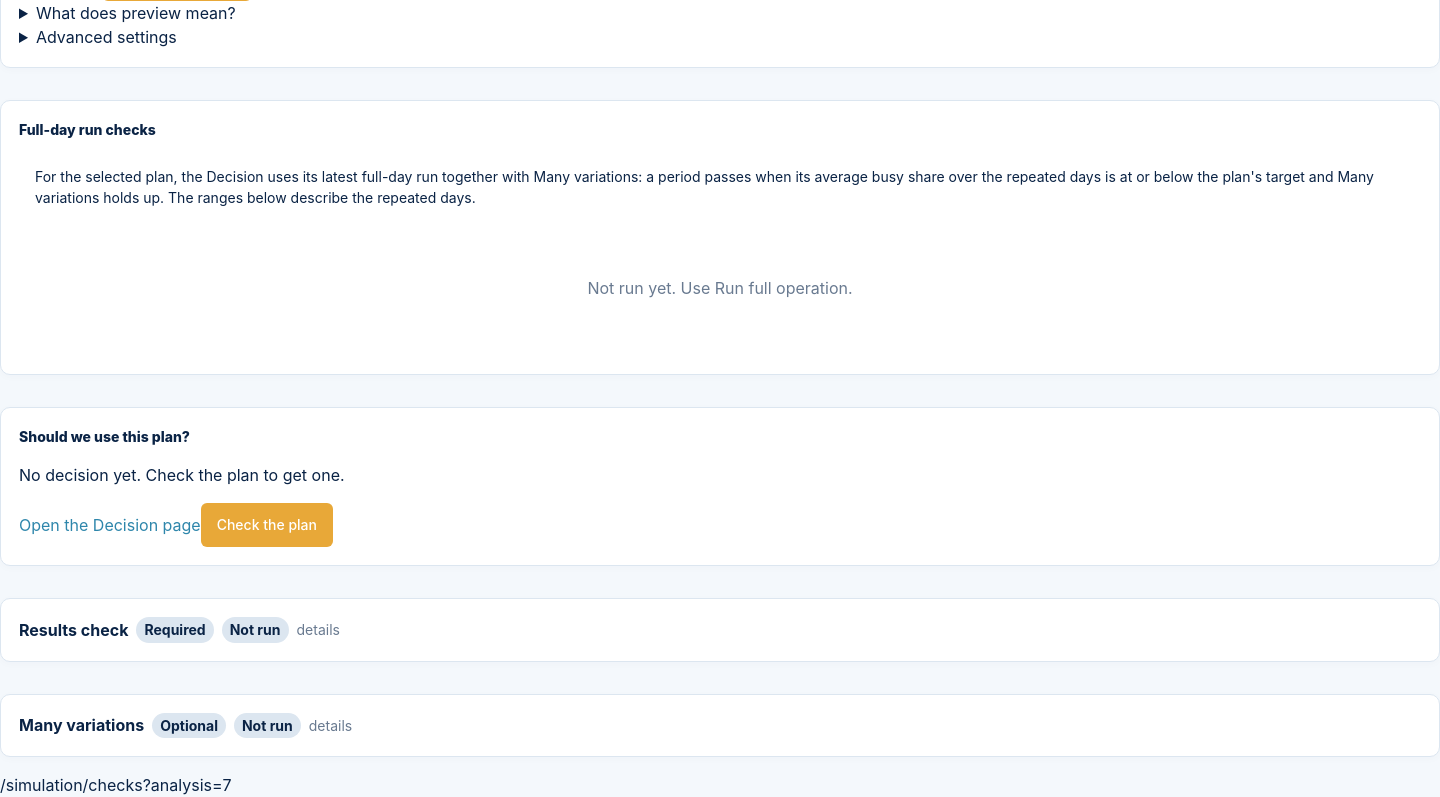
Test: shared selection/checks and legacy renderer contracts › says which evidence a shared Decision is missing, and how many periods failed
(page scrolled)
Click the button "Check the plan": [267, 525] box x1=201 y1=503 x2=333 y2=547
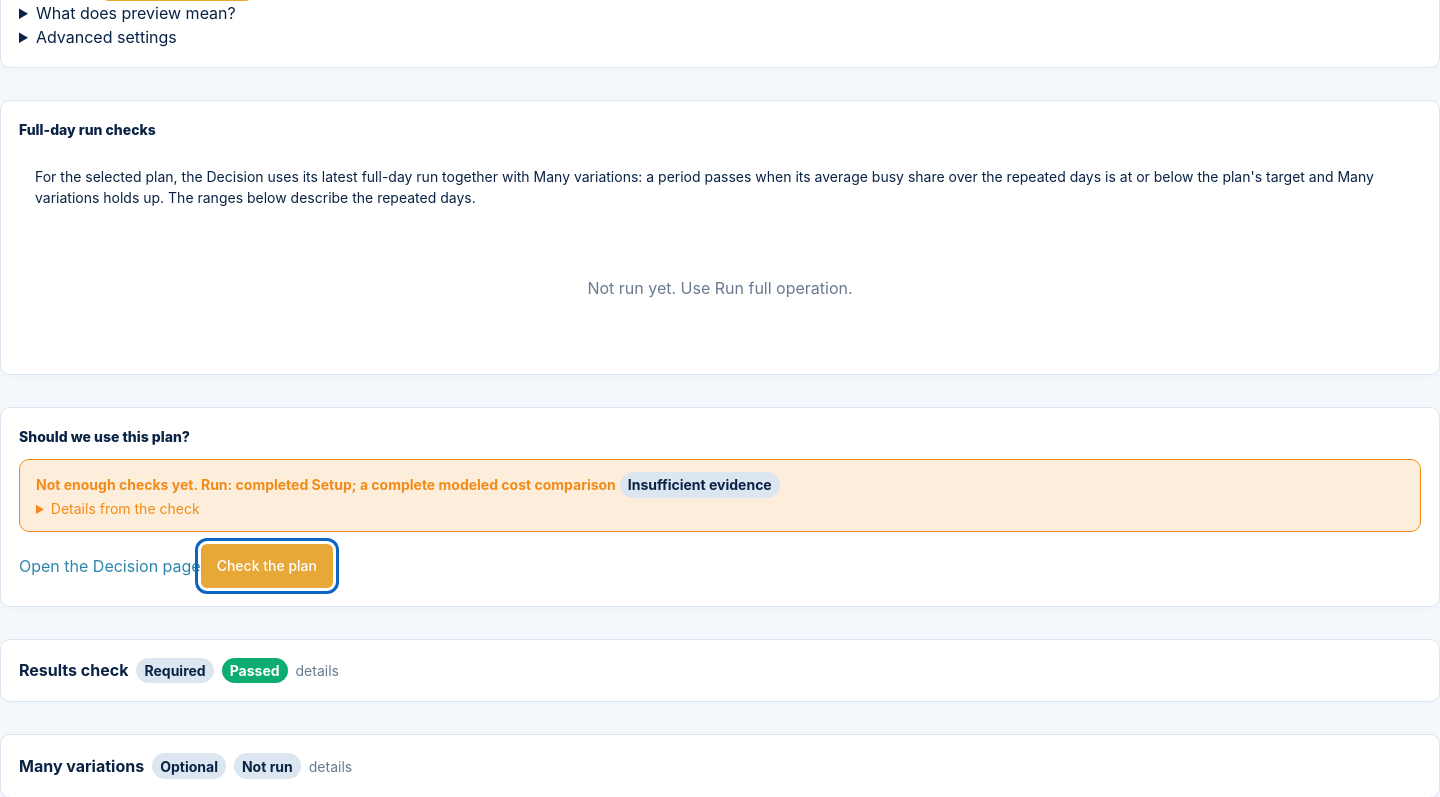
Now the text with test id "decision-plain" reads "Not enough checks yet. Run: completed Setup; a complete modeled cost comparison", box x1=36 y1=476 x2=616 y2=493
Click the button "Check the plan": [267, 566] box x1=201 y1=544 x2=333 y2=588
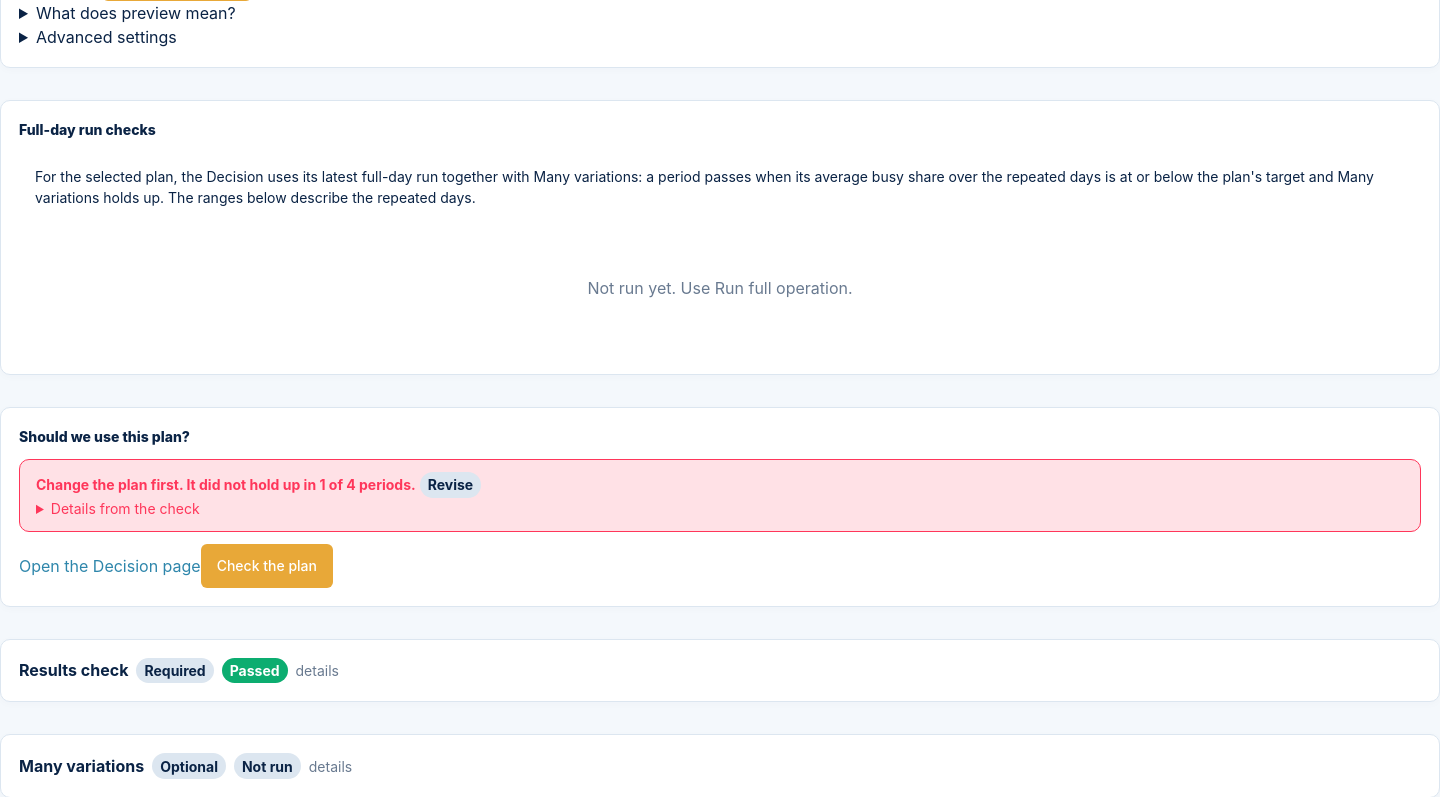
Now the text with test id "decision-plain" reads "Change the plan first. It did not hold up in 1 of 4 periods.", box x1=36 y1=476 x2=416 y2=493
